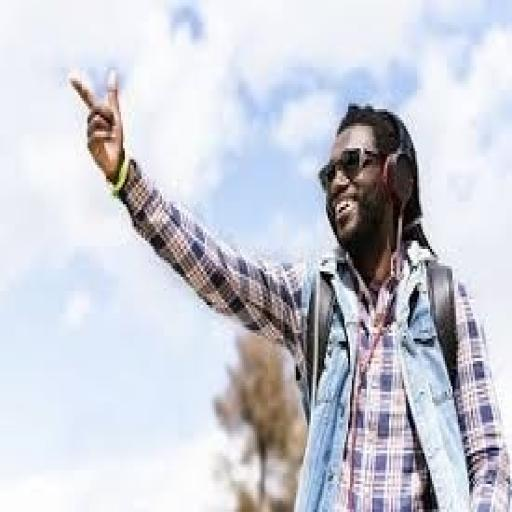listening_to_music: (65, 62, 510, 509)
